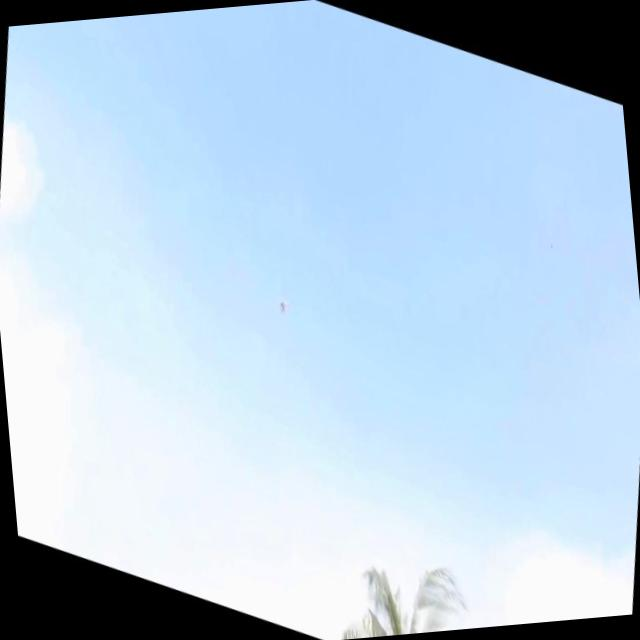drone: (276, 294, 290, 317)
